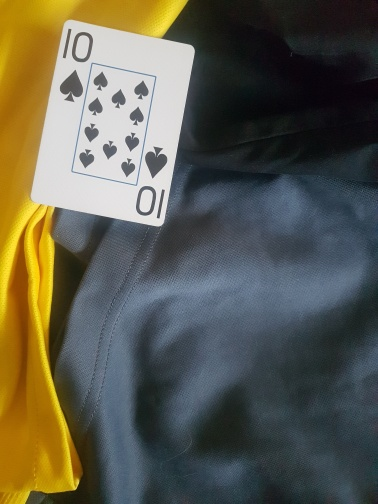ten: (30, 20, 195, 225)
